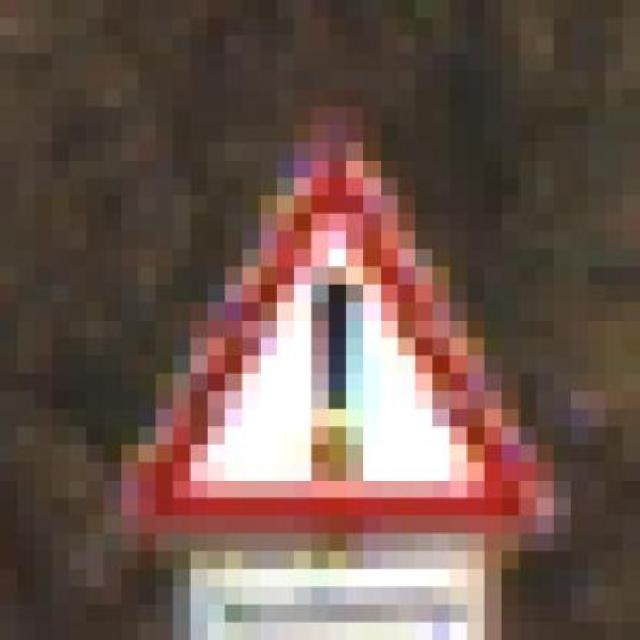Attention Please-: (86, 125, 571, 569)
